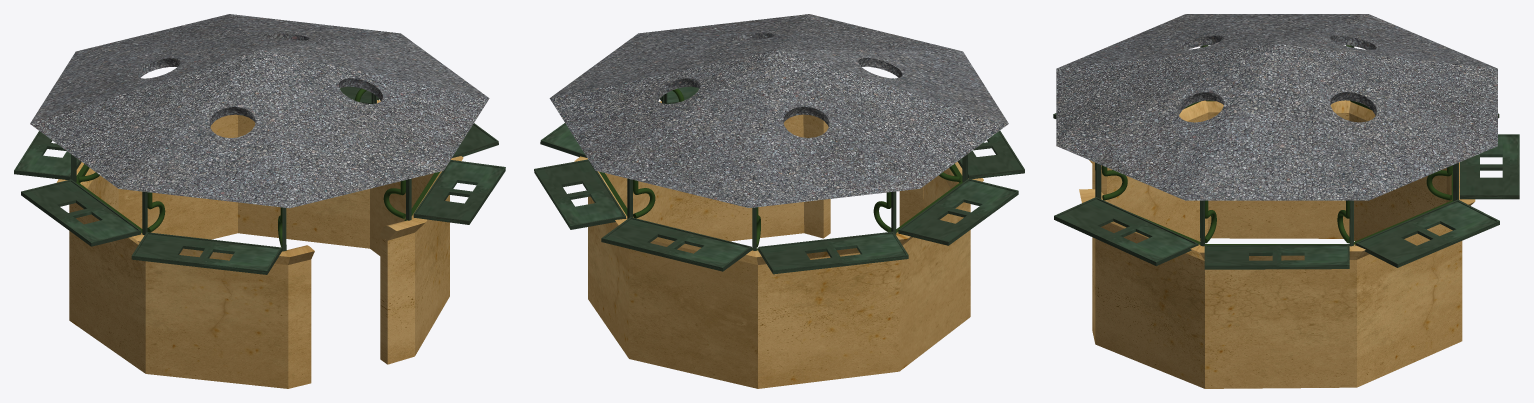
Rendered from Outpost_withTextures.fbx.
The picture shows the model from 3 angles, left to right: view 1: azimuth 30°, elevation 25°; view 2: azimuth 150°, elevation 25°; view 3: azimuth 270°, elevation 25°; orthographic projection. The views are drawn at different scales.
Visible parts, largest first — view 1: polySurface4, pasted__polySurface2, pCube13, pCube12, pCube15, WallTop, pCube11, pCube16; view 2: polySurface4, pasted__polySurface2, pCube18, pCube11, pCube12, pCube17, pCube13, WallTop, pCube16; view 3: polySurface4, pasted__polySurface2, pCube17, pCube15, pCube16, pCube18, WallTop.
Boxes of the visible parts, bbox=[...] form: polySurface4: bbox=[30, 14, 489, 208]; pasted__polySurface2: bbox=[69, 114, 449, 388]; pCube13: bbox=[131, 232, 282, 274]; pCube12: bbox=[21, 179, 141, 246]; pCube15: bbox=[413, 160, 505, 224]; WallTop: bbox=[57, 100, 463, 264]; pCube11: bbox=[14, 131, 81, 179]; pCube16: bbox=[452, 123, 498, 157]; polySurface4: bbox=[549, 14, 1008, 207]; pasted__polySurface2: bbox=[588, 114, 970, 388]; pCube18: bbox=[601, 217, 751, 271]; pCube11: bbox=[758, 231, 908, 274]; pCube12: bbox=[898, 178, 1018, 245]; pCube17: bbox=[534, 159, 626, 229]; pCube13: bbox=[957, 130, 1024, 179]; WallTop: bbox=[574, 101, 983, 264]; pCube16: bbox=[540, 123, 586, 157]; polySurface4: bbox=[1056, 14, 1497, 200]; pasted__polySurface2: bbox=[1092, 112, 1462, 388]; pCube17: bbox=[1355, 199, 1499, 267]; pCube15: bbox=[1054, 197, 1198, 265]; pCube16: bbox=[1204, 244, 1349, 269]; pCube18: bbox=[1460, 134, 1519, 199]; WallTop: bbox=[1079, 100, 1475, 260].
Bounding box in the file's own units: 16.43 × 9.95 × 15.76.
Materials: 6 (4 with a texture image).
